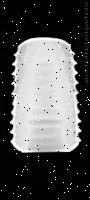Cowellmedi: (9, 32, 83, 154)
